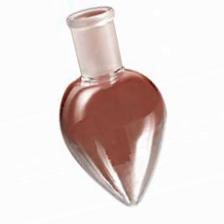Pear shaped flask: (47, 8, 167, 209)
